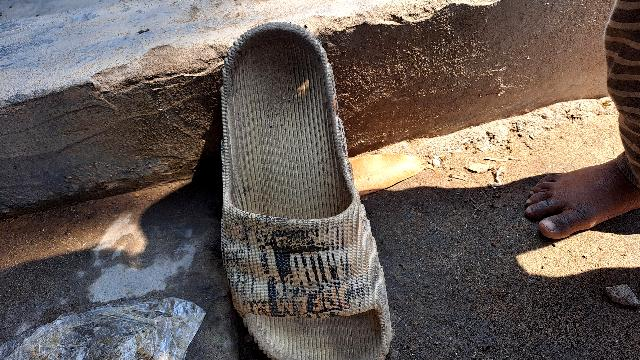sandal: (168, 9, 403, 360)
